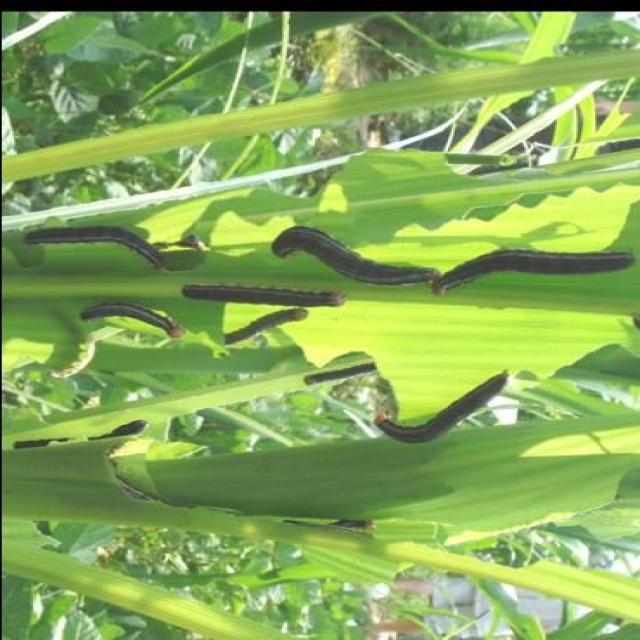army worm: (428, 248, 636, 304), (368, 370, 517, 446), (269, 227, 442, 270), (20, 222, 179, 266), (172, 284, 345, 315), (82, 301, 184, 342)
